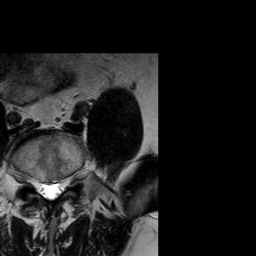CCS_normal: (46, 171, 54, 207)
LFS_normal: (63, 167, 72, 196)
LLS_normal: (54, 170, 63, 200)
RFS_normal: (28, 167, 37, 195)
RLS_normal: (37, 169, 46, 203)
